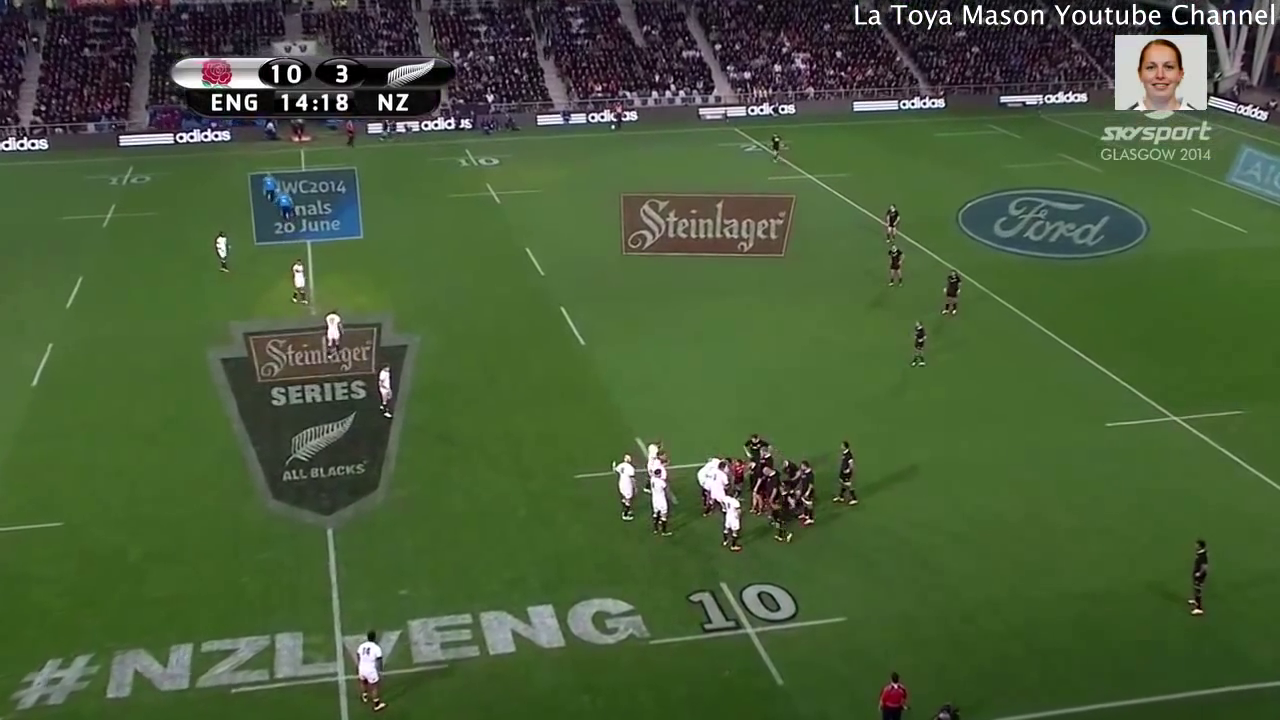10_metre: (636, 577, 850, 687), (61, 203, 165, 232), (86, 163, 177, 193), (445, 180, 542, 208), (430, 146, 510, 173)
player: (1183, 532, 1212, 620), (832, 440, 863, 507), (371, 360, 403, 424), (608, 449, 636, 517), (210, 228, 240, 282), (648, 468, 672, 535), (283, 256, 310, 310), (705, 462, 732, 515), (797, 461, 817, 526), (939, 268, 963, 319), (320, 308, 346, 351), (722, 492, 741, 550), (885, 243, 907, 292), (777, 484, 795, 542), (910, 319, 929, 372), (880, 201, 903, 241), (696, 454, 723, 483), (761, 467, 778, 512), (767, 133, 785, 164), (645, 453, 671, 472), (778, 458, 799, 481), (742, 434, 759, 457), (643, 435, 660, 457), (758, 446, 772, 464)
